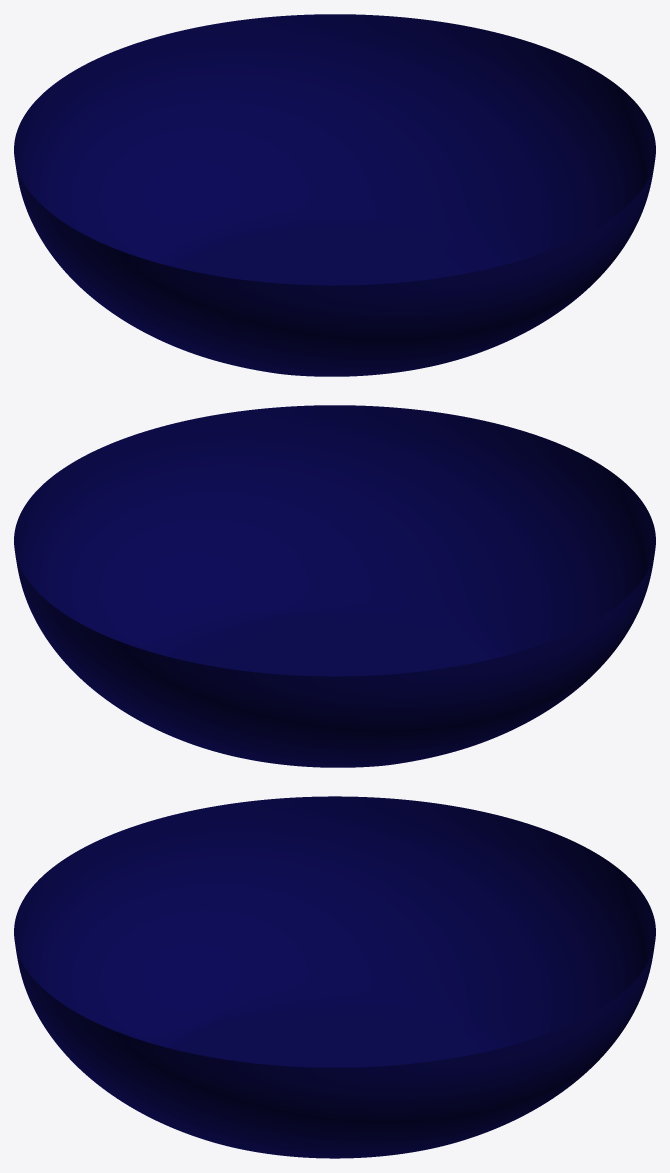
The model's file is uploads_files_5125851_formal_shoes.fbx.
3 views of the same model, one above another, from view 1: azimuth 30°, elevation 25°; view 2: azimuth 150°, elevation 25°; view 3: azimuth 270°, elevation 25° (orthographic).
Parts seen in each view (by area): view 1: environment; view 2: environment; view 3: environment.
Part boxes in pixels (left/top/right/bottom): environment: left=14, top=14, right=655, bottom=376; environment: left=14, top=405, right=655, bottom=767; environment: left=14, top=796, right=655, bottom=1158.
Size of the model in its own units: 3833 by 979 by 3833.
